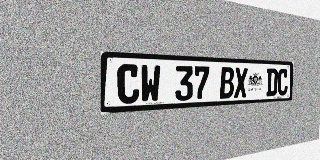3: (175, 66, 193, 101)
7: (193, 66, 210, 100)
B: (220, 67, 234, 99)
C: (117, 64, 140, 104), (277, 69, 288, 96)
D: (266, 68, 278, 96)
W: (140, 64, 161, 103)
X: (234, 67, 248, 98)
